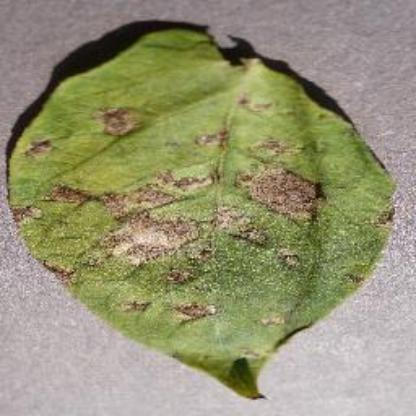Early-Blight: (7, 24, 401, 398)
